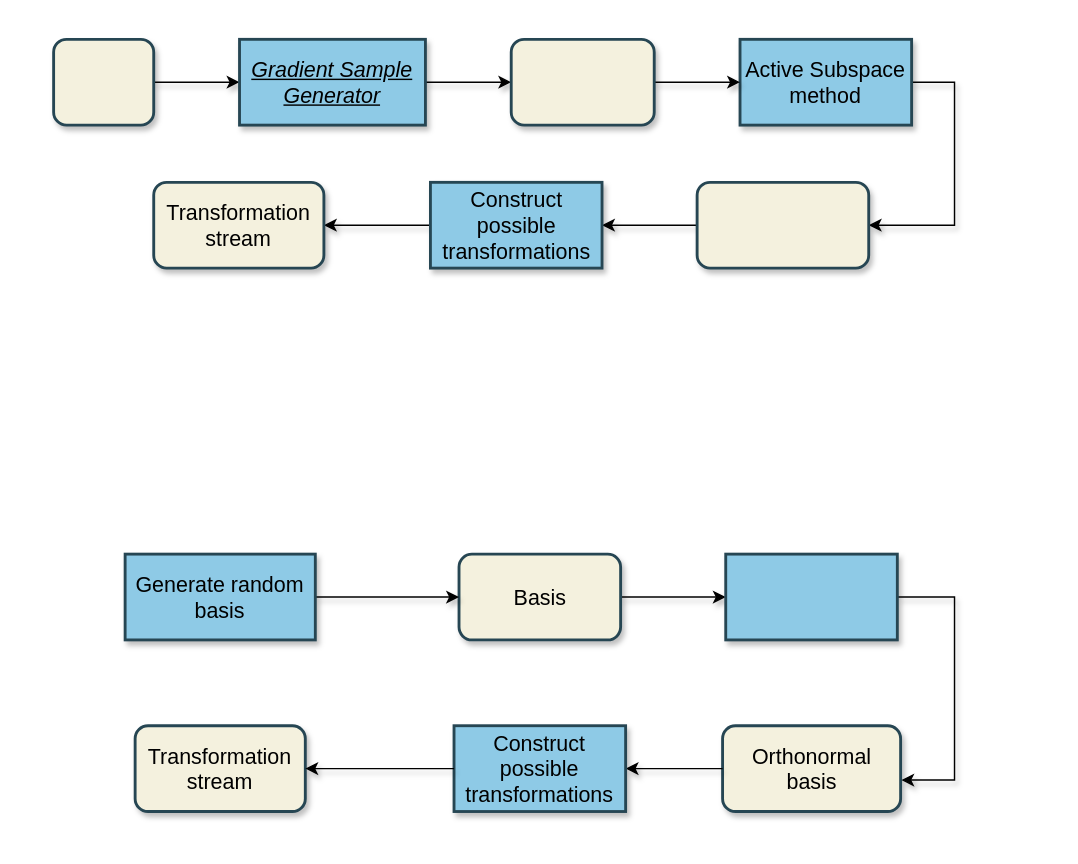
Some shapes in this 1078 by 864 pixel diagram are drawn without their labels. The centre of each missing label's shape, as x and y in pixels:
Eigenvectors + Eigenvalues: point 783,226
Gradient Sample: point 583,83
Gram-Schmidt: point 812,598
Model: point 104,83
